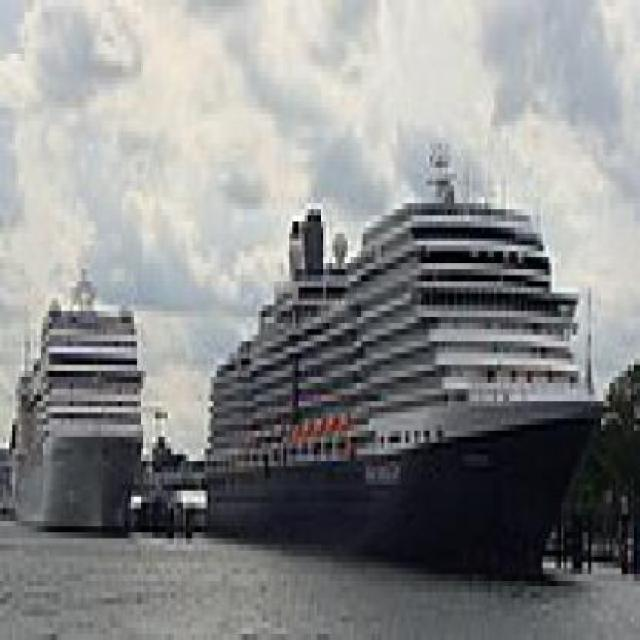cruise: (199, 120, 617, 611), (7, 247, 150, 558)
